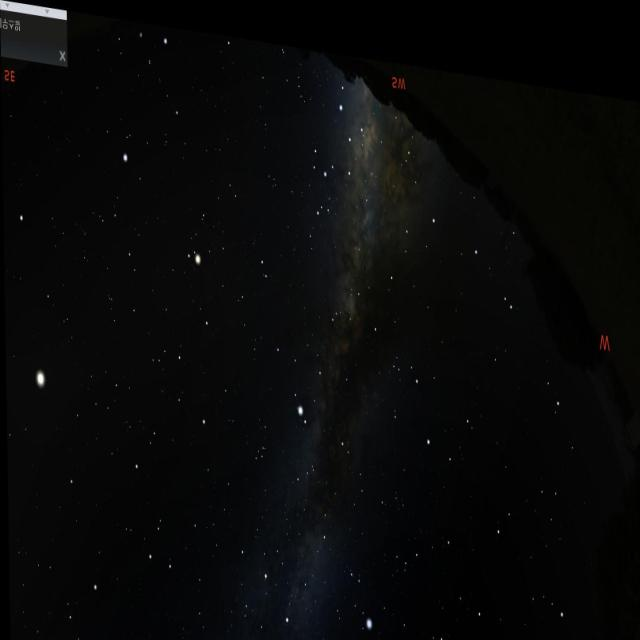aquila: (267, 284, 350, 428)
cygnus: (251, 480, 333, 640)
lyra: (337, 542, 379, 618)
sagittarius: (310, 76, 366, 182)
